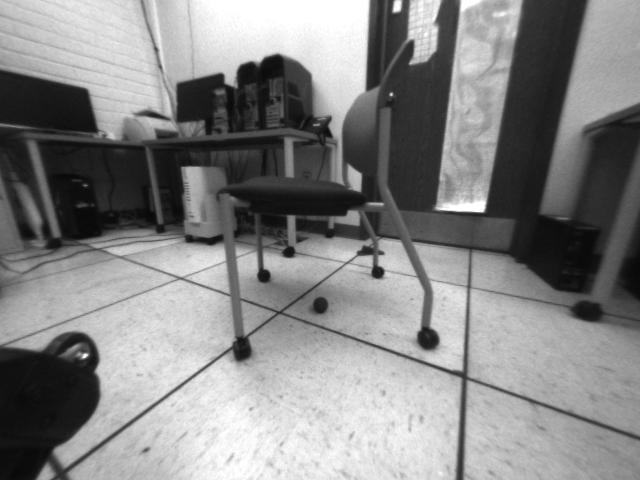dogtoy: (311, 294, 333, 317)
